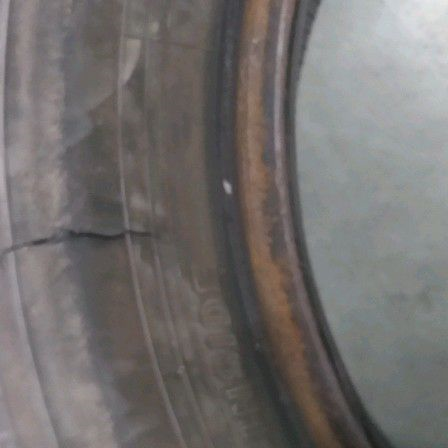cut: (0, 227, 158, 268)
